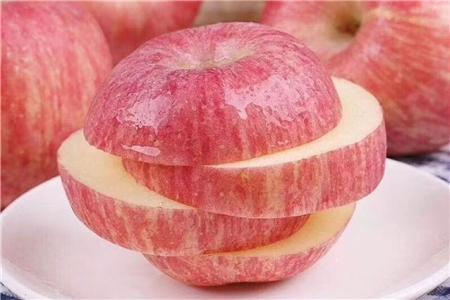apple: (57, 20, 388, 285), (253, 1, 450, 158)
